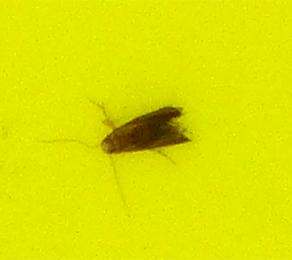Trichoptera: (100, 100, 192, 160)
